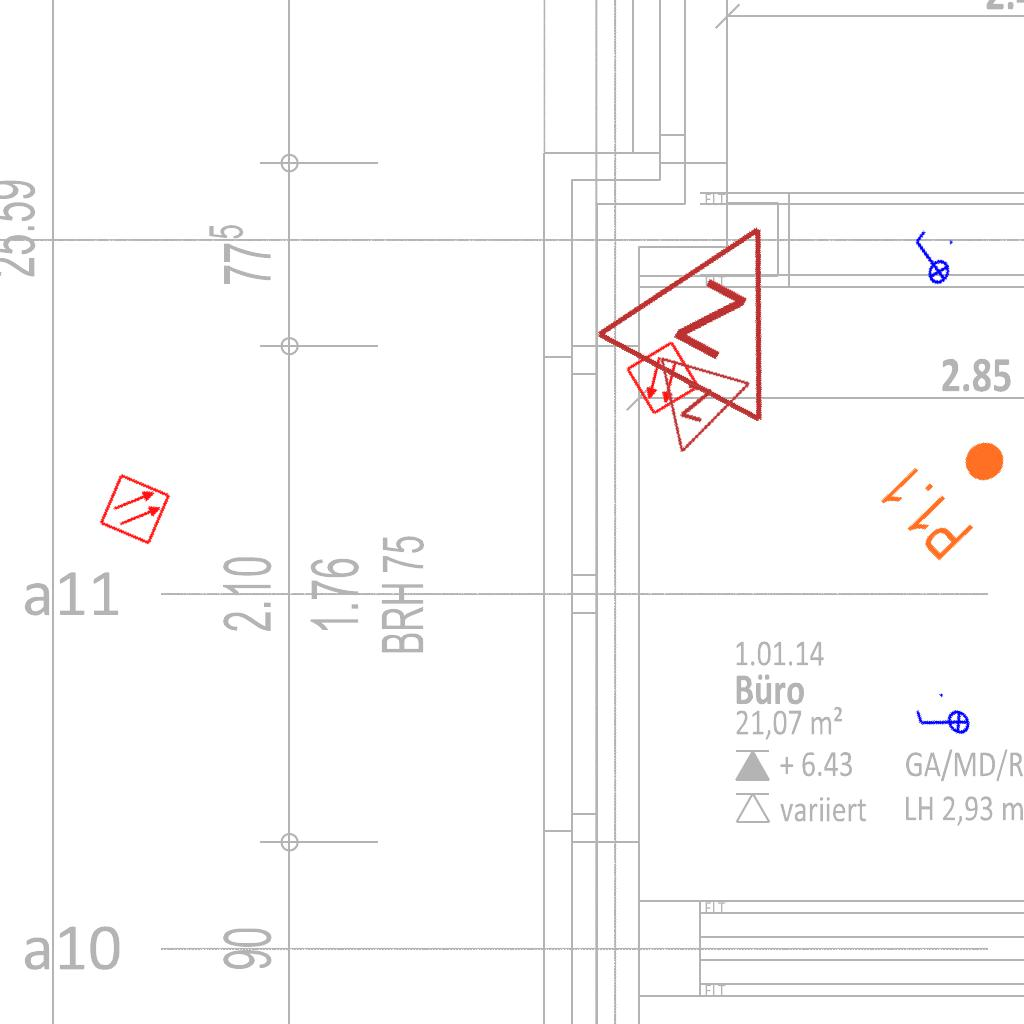Ausschalter_beleuchtet: (907, 685, 979, 759), (897, 224, 963, 294)
Downlight_LED_Einbauleuchten_Flur: (874, 410, 1024, 566)
RMO_Rauchmelder_optischer: (624, 339, 702, 417), (98, 472, 172, 546)
Zimmersignalleuchte: (582, 168, 850, 438), (634, 349, 756, 473)
